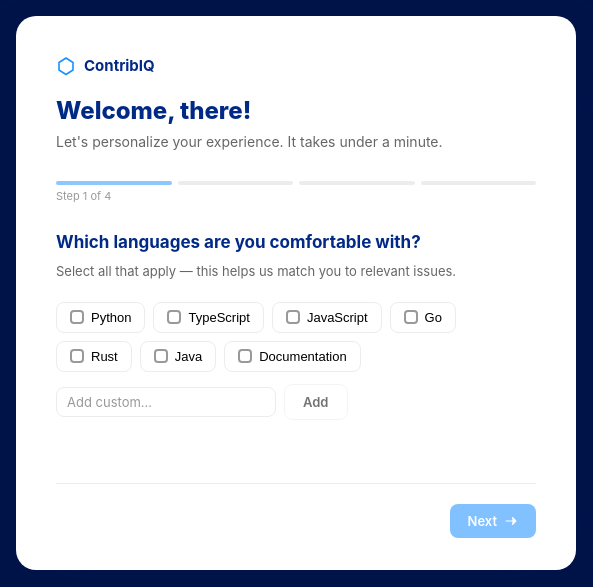
Test: OnboardingSetupPage — step 0 initial state › deselecting a language re-disables the Next button
Click the button "Python". click: (101, 317)
box: [56,302,146,333]
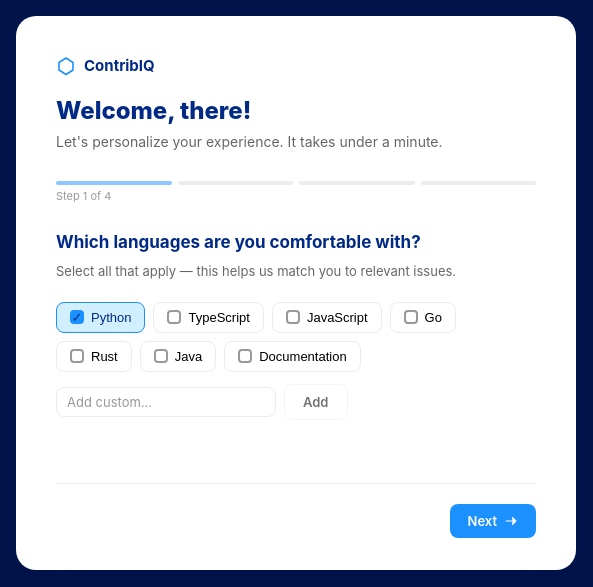
Click the button "✓ Python". click: (101, 317)
box: [56,302,146,333]
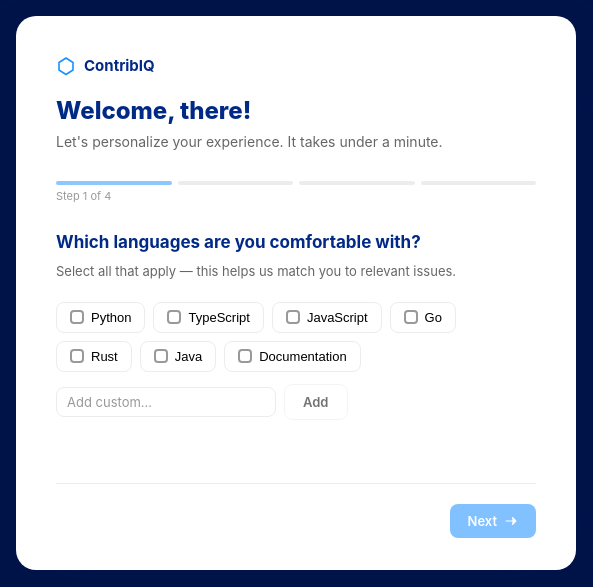
Result: the button "Next" is disabled at [450,504,536,538]
